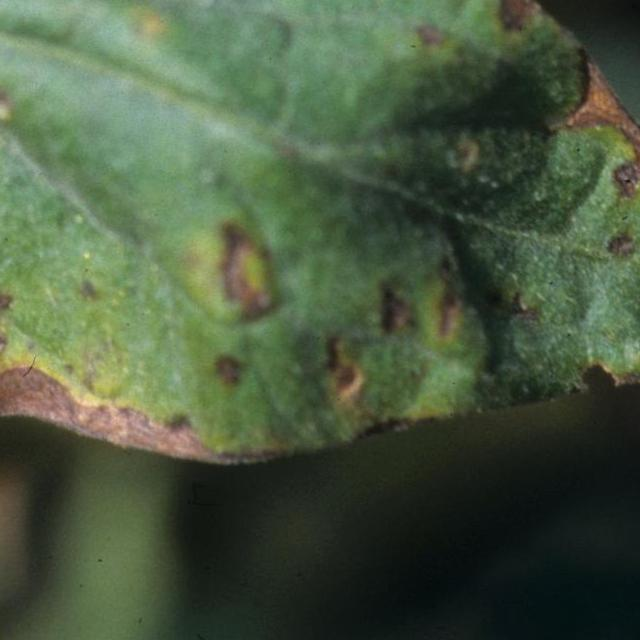Tomato leaf bacterial spot: (0, 0, 640, 563)
